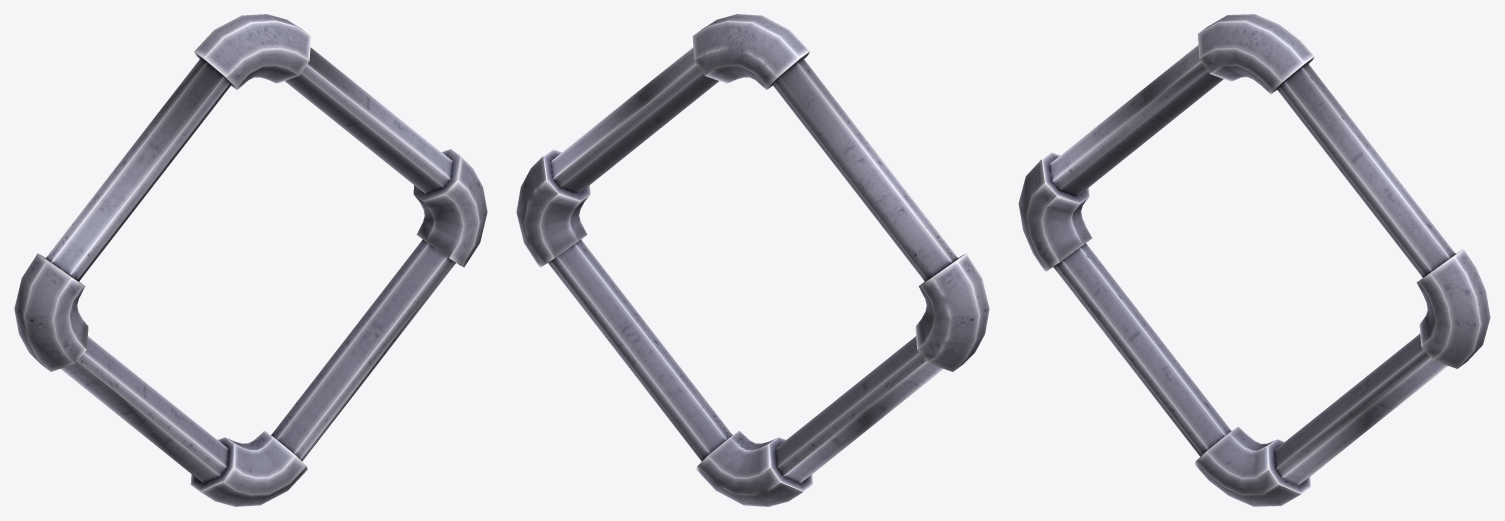
The model's file is RoadSignDiamondFrame.fbx.
3 views of the same model, side by side, from view 1: azimuth 30°, elevation 25°; view 2: azimuth 150°, elevation 25°; view 3: azimuth 330°, elevation 25° (orthographic).
Parts seen in each view (by area): view 1: Polygonal_Geometry; view 2: Polygonal_Geometry; view 3: Polygonal_Geometry.
Part boxes in pixels (box(x1,y1,x2,y2)): Polygonal_Geometry: box(14, 14, 487, 506); Polygonal_Geometry: box(516, 14, 989, 506); Polygonal_Geometry: box(1018, 14, 1490, 506).
Bounding box in the file's own units: 6.34 × 6.34 × 0.7316.
